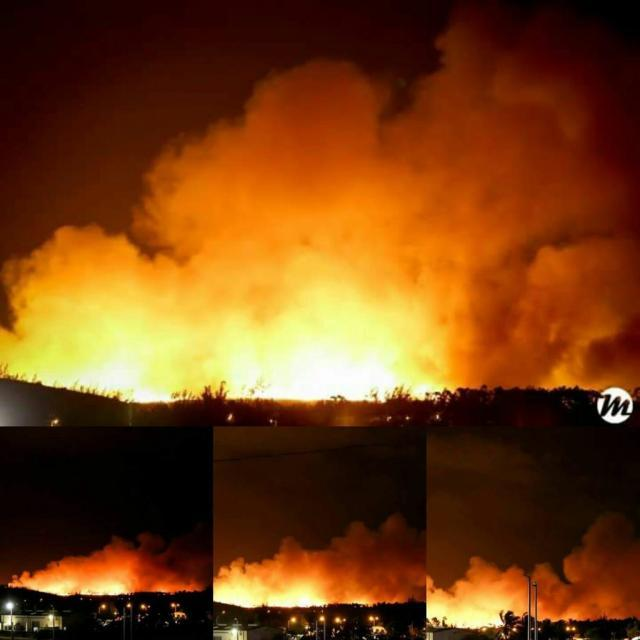Smoke: (0, 0, 640, 394), (428, 508, 640, 632), (210, 506, 428, 614), (3, 528, 210, 602)
